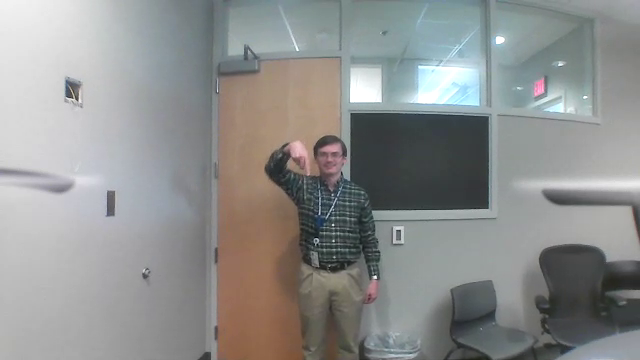down: (281, 137, 314, 181)
